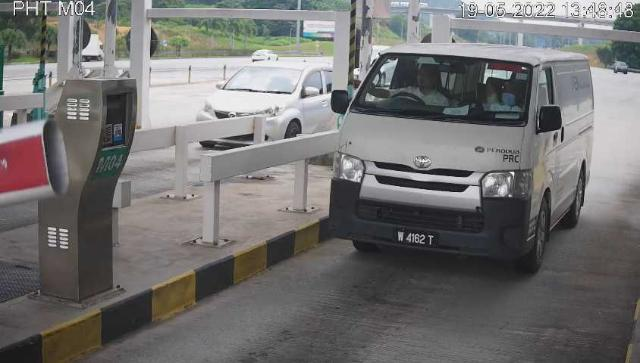License_Plate: (392, 227, 442, 254)
van: (329, 44, 595, 272)
